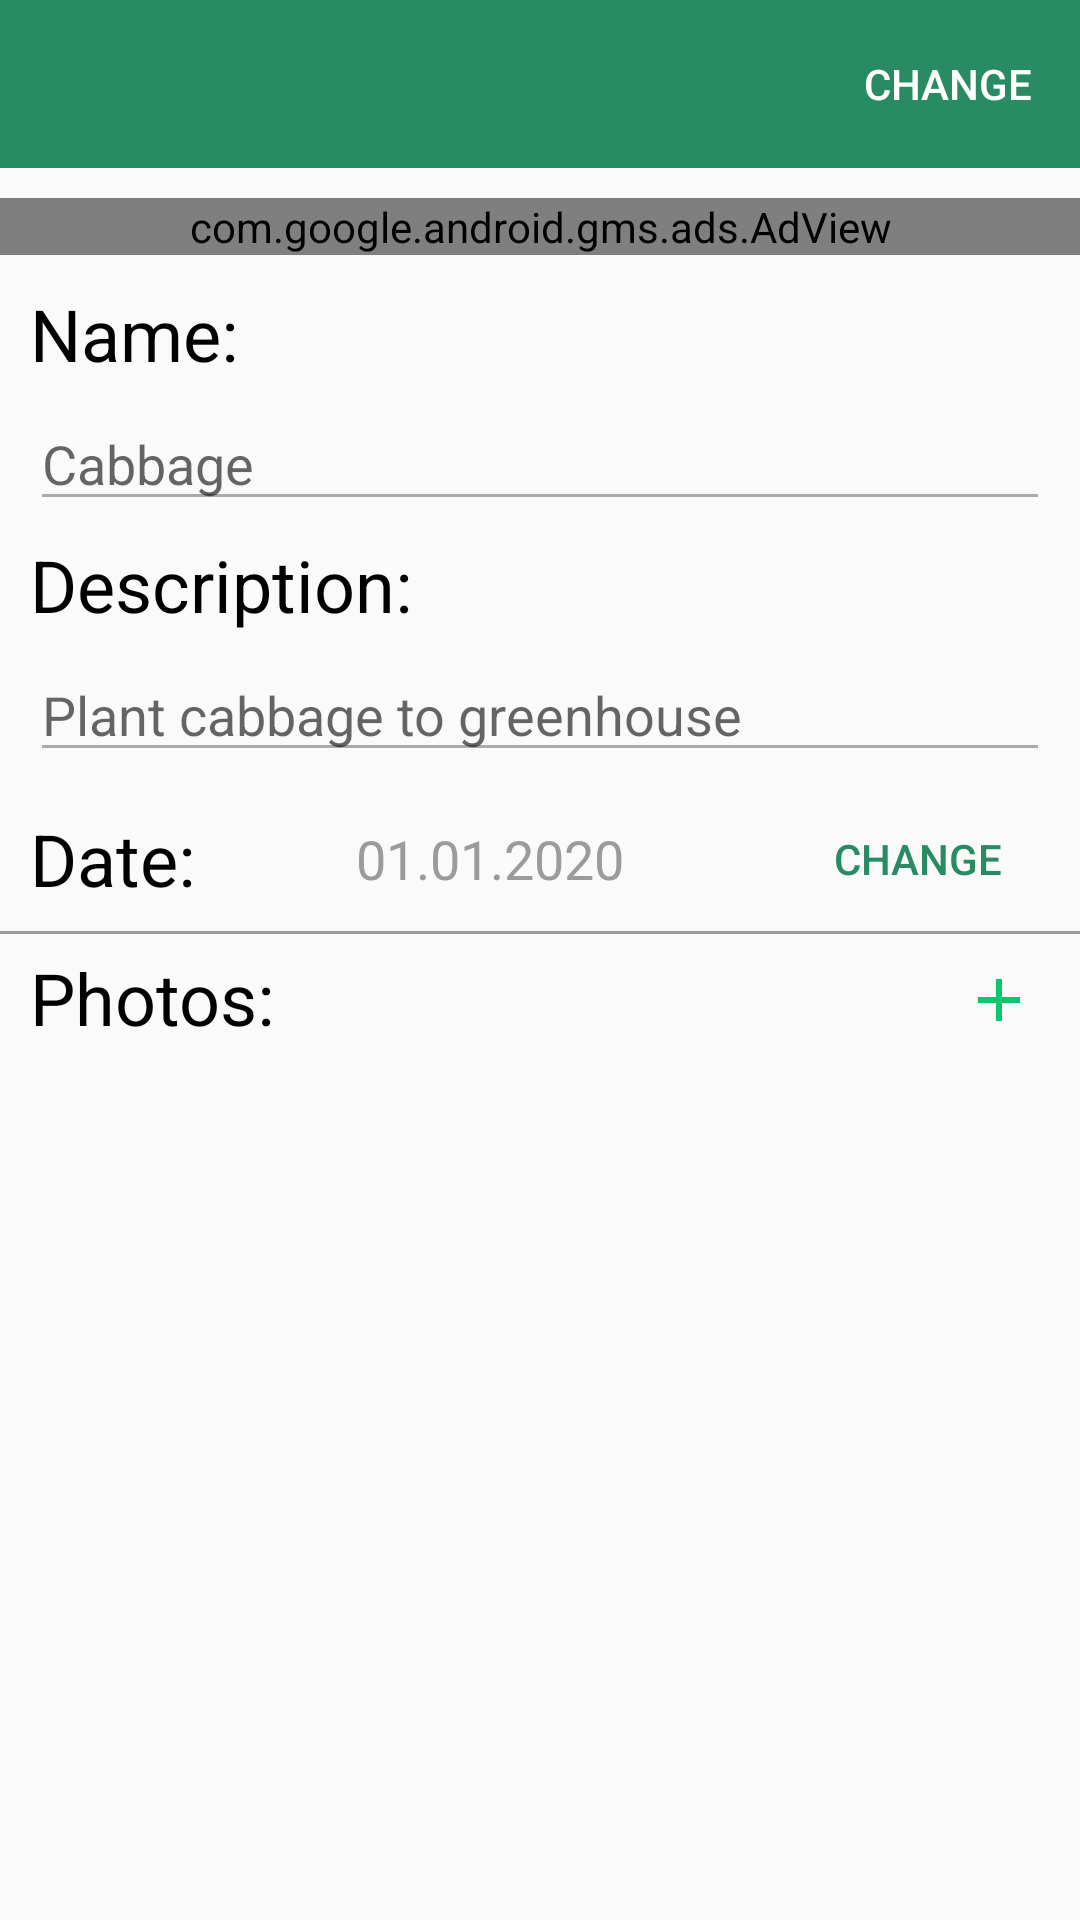

Screen size 1080 × 1920. Icon name, then its box in pixels as (x1, y1, x2, y2):
add: (978, 979, 1020, 1021)
